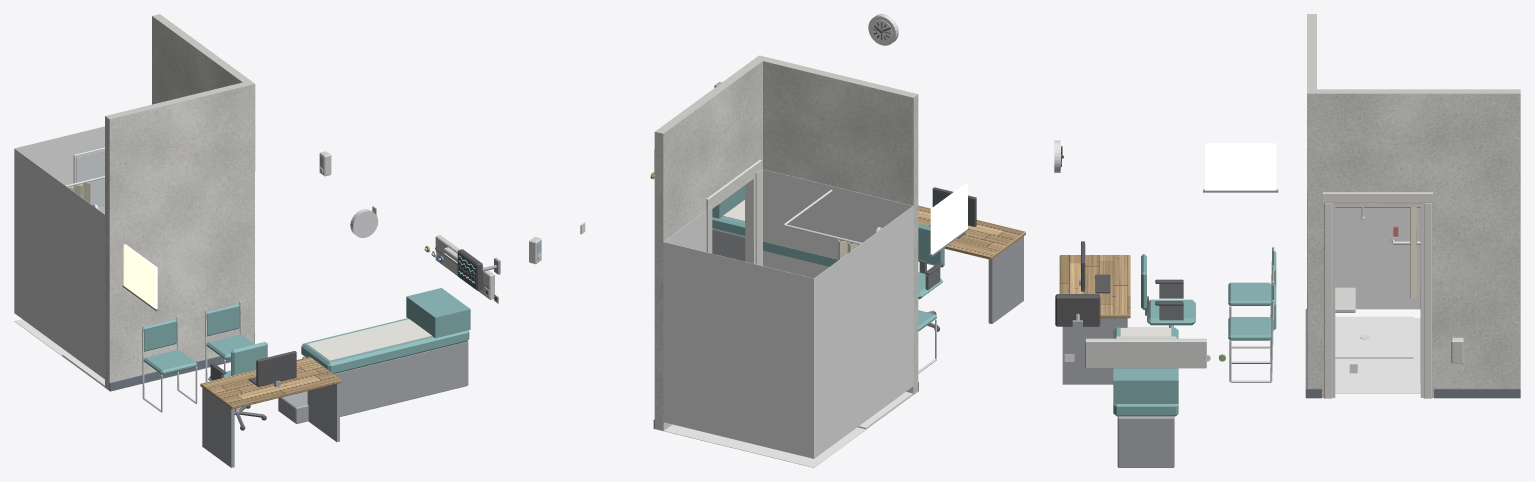
File: room_exam_364x458.glb
3 views of the same model, side by side, from view 1: azimuth 30°, elevation 25°; view 2: azimuth 150°, elevation 25°; view 3: azimuth 270°, elevation 25° (orthographic). The views are drawn at different scales.
Parts seen in each view (by area): view 1: room_exam_364x458_plaster, room_exam_364x458_tile_c, room_exam_364x458_steel, room_exam_364x458_vinyl_t, room_exam_364x458_laminate, room_exam_364x458_paper, room_exam_364x458_chrome, room_exam_364x458_dark, room_exam_364x458_lamp_glass, room_exam_364x458_cart_w, room_exam_364x458_mirror, room_exam_364x458_vinyl; view 2: room_exam_364x458_tile_c, room_exam_364x458_plaster, room_exam_364x458_steel, room_exam_364x458_vinyl_t, room_exam_364x458_frame, room_exam_364x458_laminate, room_exam_364x458_lamp_glass, room_exam_364x458_chrome, room_exam_364x458_dark; view 3: room_exam_364x458_plaster, room_exam_364x458_tile_c, room_exam_364x458_vinyl_t, room_exam_364x458_frame, room_exam_364x458_steel, room_exam_364x458_cart_w, room_exam_364x458_lamp_glass, room_exam_364x458_laminate, room_exam_364x458_dark, room_exam_364x458_chrome, room_exam_364x458_vinyl, room_exam_364x458_steel_d (+1 smaller).
Part boxes in pixels (x1,y1,x2,y2): room_exam_364x458_plaster: (105, 14, 255, 390); room_exam_364x458_tile_c: (14, 126, 104, 387); room_exam_364x458_steel: (122, 247, 500, 467); room_exam_364x458_vinyl_t: (143, 288, 470, 380); room_exam_364x458_laminate: (200, 357, 341, 409); room_exam_364x458_paper: (307, 319, 431, 360); room_exam_364x458_chrome: (65, 147, 440, 412); room_exam_364x458_dark: (210, 249, 496, 430); room_exam_364x458_lamp_glass: (123, 244, 457, 308); room_exam_364x458_cart_w: (319, 151, 494, 299); room_exam_364x458_mirror: (76, 150, 104, 205); room_exam_364x458_vinyl: (109, 356, 230, 391); room_exam_364x458_tile_c: (663, 169, 913, 467); room_exam_364x458_plaster: (654, 55, 918, 430); room_exam_364x458_steel: (712, 82, 1023, 323); room_exam_364x458_vinyl_t: (712, 185, 944, 331); room_exam_364x458_frame: (706, 160, 761, 265); room_exam_364x458_laminate: (918, 205, 1025, 259); room_exam_364x458_lamp_glass: (930, 183, 967, 254); room_exam_364x458_chrome: (537, 14, 936, 373); room_exam_364x458_dark: (873, 22, 976, 331); room_exam_364x458_plaster: (1307, 14, 1520, 397); room_exam_364x458_tile_c: (1335, 208, 1420, 393); room_exam_364x458_vinyl_t: (1113, 207, 1420, 416); room_exam_364x458_frame: (1323, 192, 1432, 398); room_exam_364x458_steel: (1062, 189, 1278, 467); room_exam_364x458_cart_w: (1085, 287, 1463, 368); room_exam_364x458_lamp_glass: (1205, 143, 1276, 190); room_exam_364x458_laminate: (1059, 255, 1130, 318); room_exam_364x458_dark: (1055, 146, 1183, 326); room_exam_364x458_chrome: (1054, 140, 1420, 382); room_exam_364x458_vinyl: (1305, 309, 1520, 398); room_exam_364x458_steel_d: (1145, 283, 1183, 320).
Size of the model in its own units: 3.64 by 3.31 by 4.58.
Materials: 26 (2 with a texture image).
